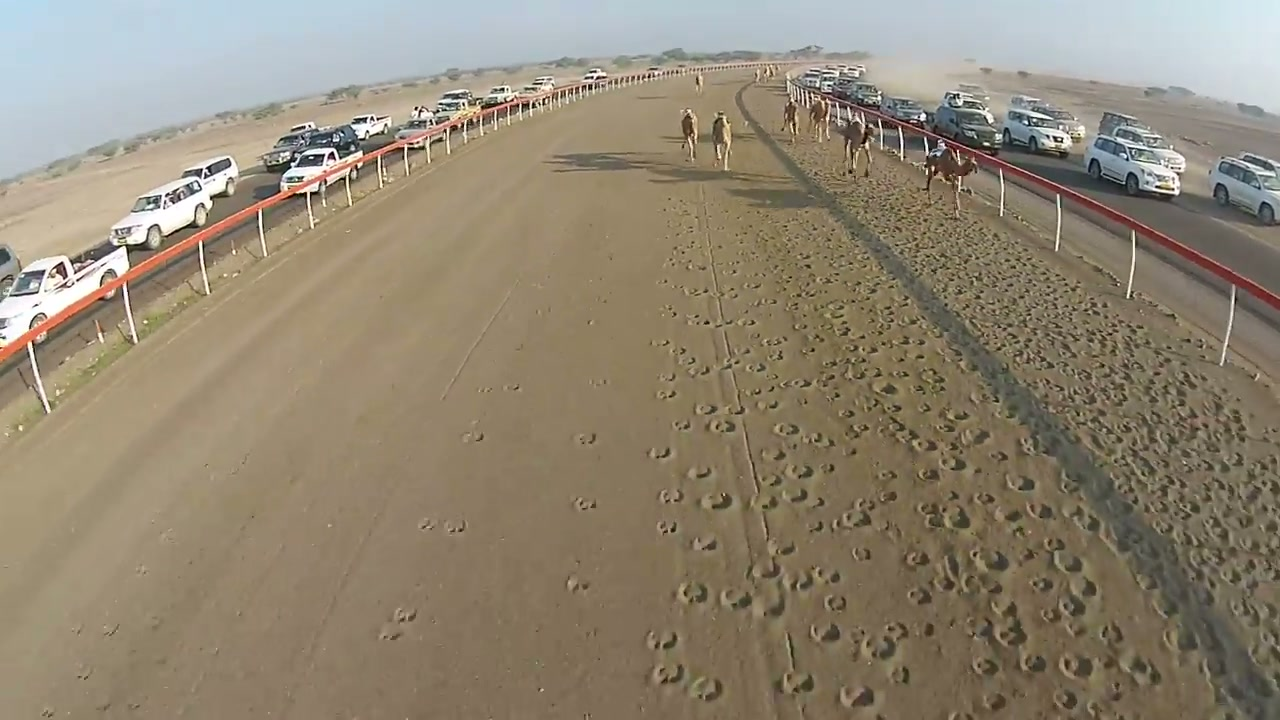animal_footprint: (652, 143, 1279, 719), (379, 607, 417, 640), (646, 630, 678, 650), (566, 575, 590, 593), (573, 497, 596, 511), (461, 430, 484, 443), (574, 432, 596, 445)
